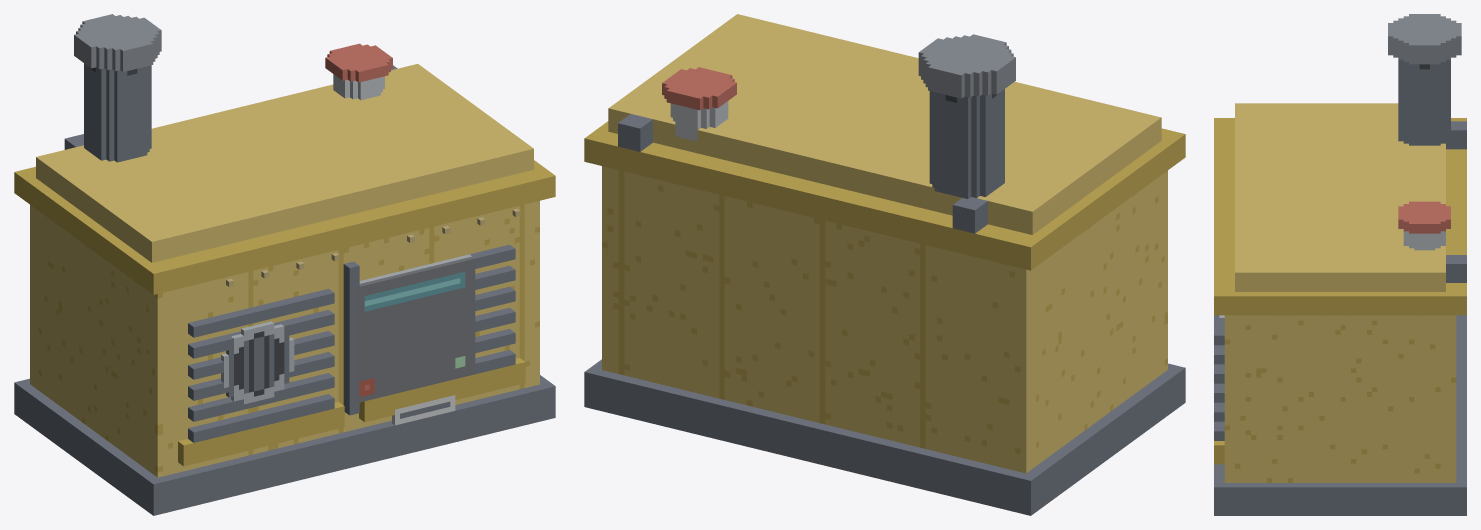
File: generator.glb
3 views of the same model, side by side, from view 1: azimuth 30°, elevation 25°; view 2: azimuth 150°, elevation 25°; view 3: azimuth 270°, elevation 25° (orthographic). The views are drawn at different scales.
Visible parts, largest first — view 1: generator; view 2: generator; view 3: generator.
Boxes of the visible parts, x1,y1,x2,y2 form: generator: (14, 14, 555, 515); generator: (584, 14, 1185, 515); generator: (1214, 14, 1466, 515).
Size of the model in its own units: 2.5 by 2.25 by 1.5.
